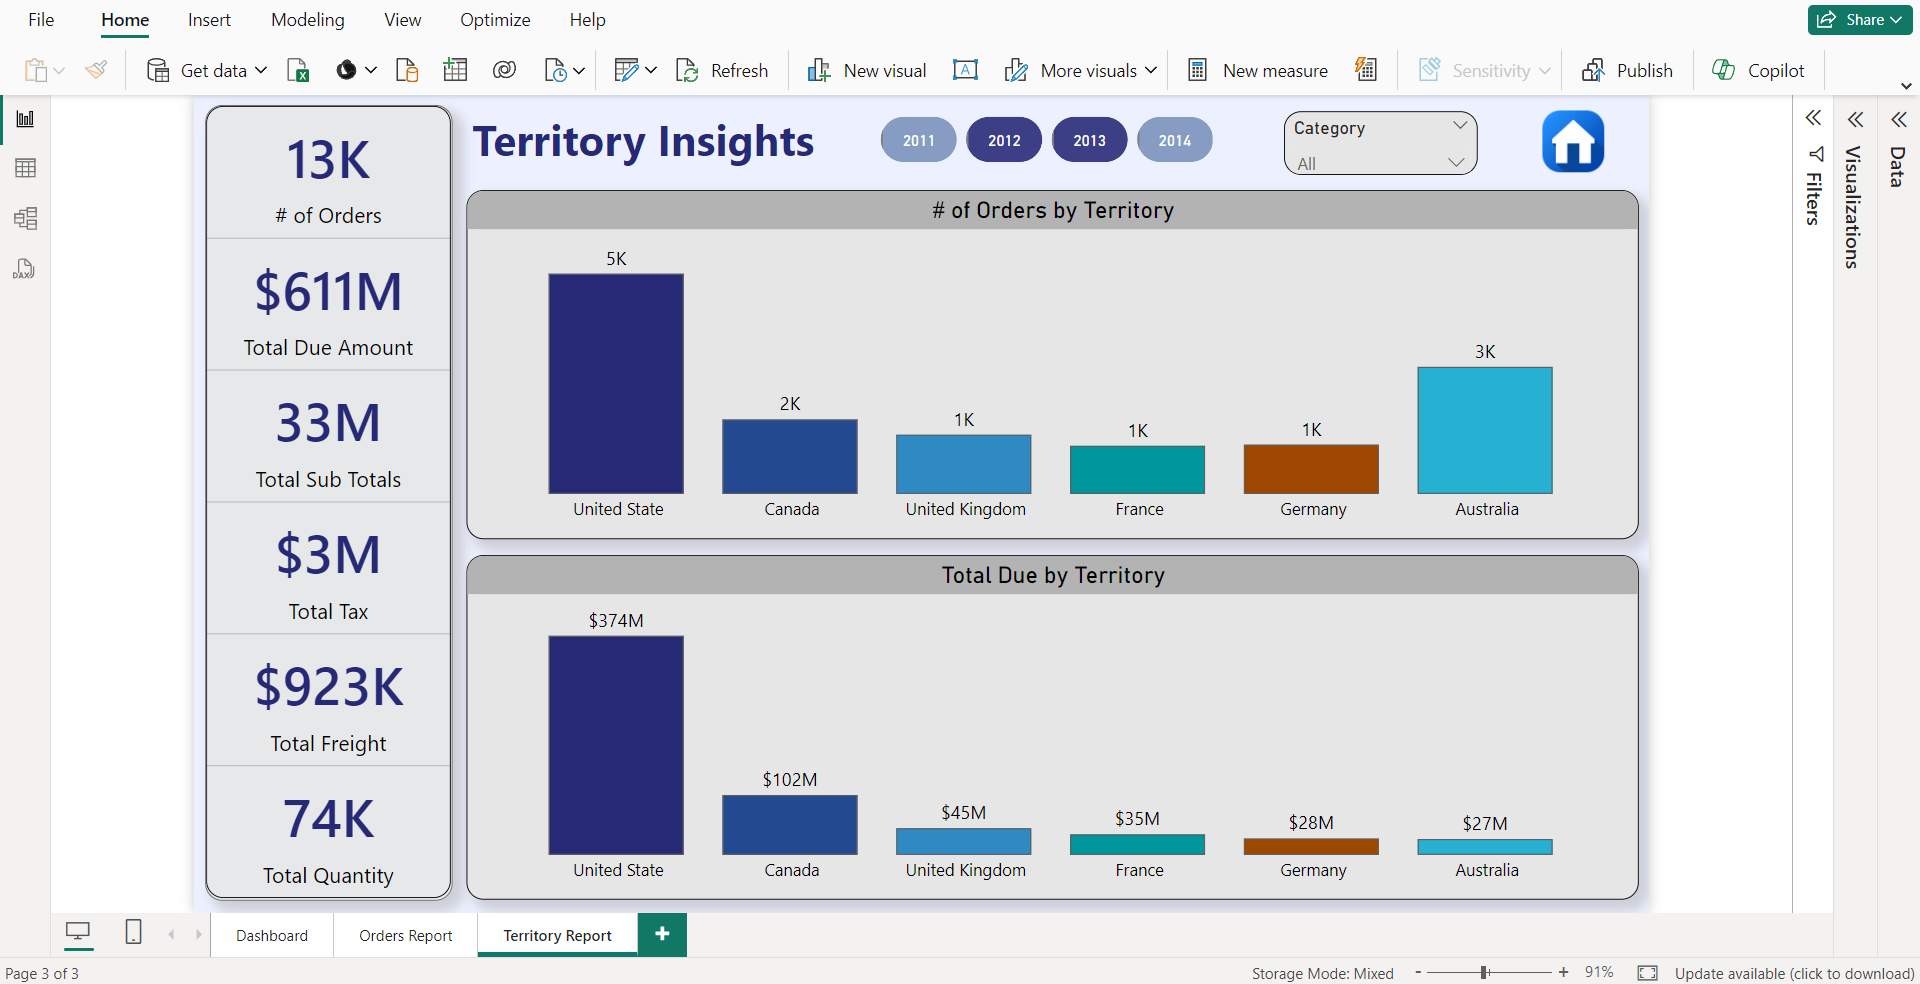

This screenshot's page, from the dashboard's own definition file:
{"tool":"powerbi","page":{"name":"Territory Report","canvas":[1280,720],"ordinal":2},"visuals":[{"type":"cardVisual","fields":{"Data":["tbl| Measures.# of Orders","tbl| Measures.Total Due Amount","tbl| Measures.Total Sub Totals","tbl| Measures.Total Tax","tbl| Measures.Total Freight","tbl| Measures.Total Quantity"]},"box":[9.5,8.3,217.9,700],"z":0},{"type":"columnChart","title":"Total Due by Territory","fields":{"Y":["tbl| Measures.Total Due Amount"],"Category":["DIM| Territory.Country (groups)"],"Series":["DIM| Territory.Country (groups)"]},"box":[239.3,404.8,1031,303.6],"z":1000},{"type":"columnChart","title":"# of Orders by Territory","fields":{"Y":["tbl| Measures.# of Orders"],"Category":["DIM| Territory.Country (groups)"],"Series":["DIM| Territory.Country (groups)"]},"box":[239.3,83.3,1031,307.1],"z":2000},{"type":"textbox","box":[239.3,8.3,345.2,61.9],"z":3000},{"type":"slicer","fields":{"Values":["DIM| Product.Product Category"]},"box":[958.3,14.3,170.2,56],"z":4000},{"type":"advancedSlicerVisual","fields":{"Values":["DIM| Date.Year"]},"box":[598.8,14.3,304.8,50],"z":5000},{"type":"image","box":[1167.9,8.3,90.5,64.3],"z":6000}]}

Visuals, with their boxes on the page's 1280x720 design canvas (x1, y1, x2, y2). These are canvas units, not pixel positions in the 1920x984 screenshot, which may show the page scaled, cropped or inside an application window:
cardVisual - tbl| Measures.# of Orders x tbl| Measures.Total Due Amount: locate(10, 8, 227, 708)
"Total Due by Territory" columnChart: locate(239, 405, 1270, 708)
"# of Orders by Territory" columnChart: locate(239, 83, 1270, 390)
textbox: locate(239, 8, 584, 70)
slicer - DIM| Product.Product Category: locate(958, 14, 1128, 70)
advancedSlicerVisual - DIM| Date.Year: locate(599, 14, 904, 64)
image: locate(1168, 8, 1258, 73)
